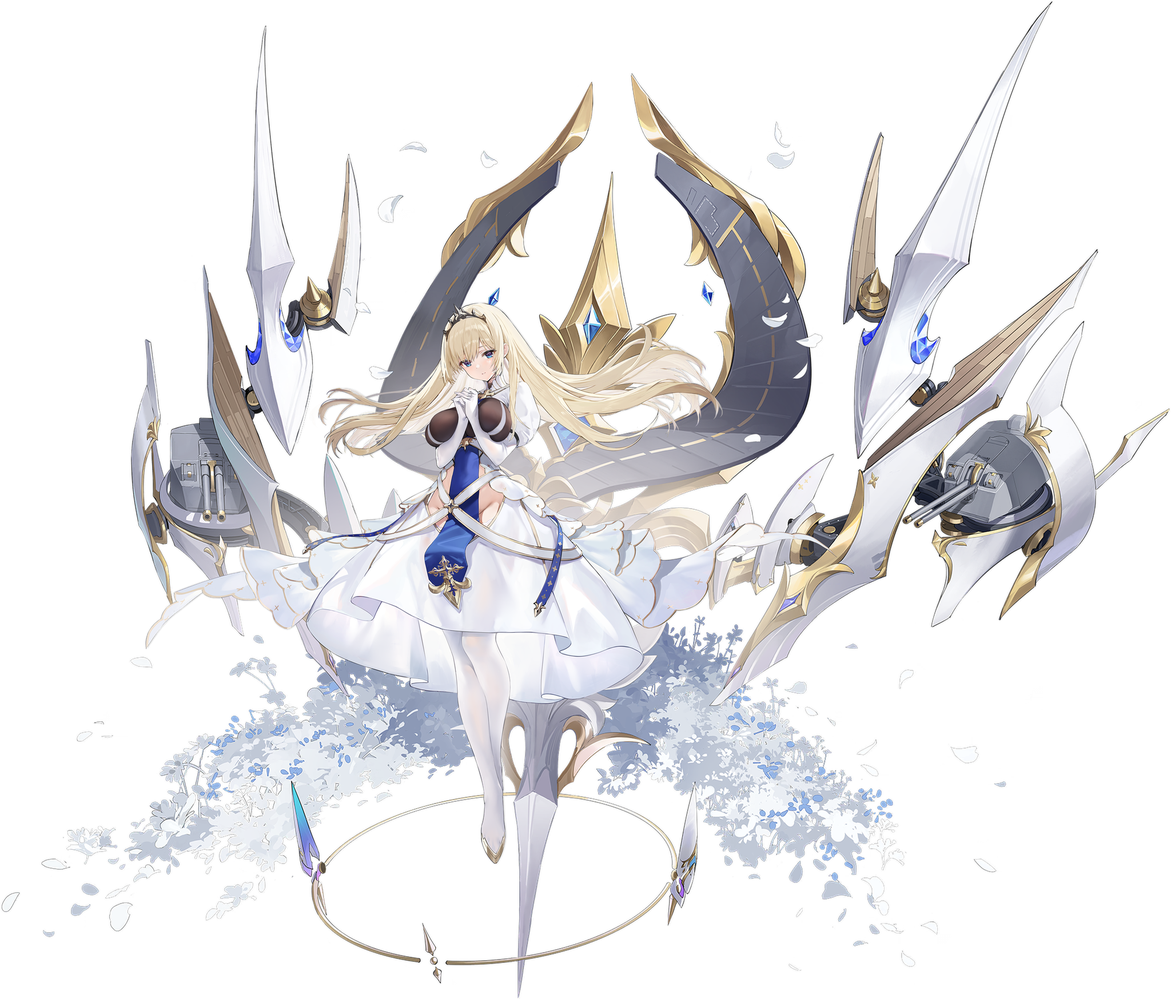person: (292, 279, 687, 972)
